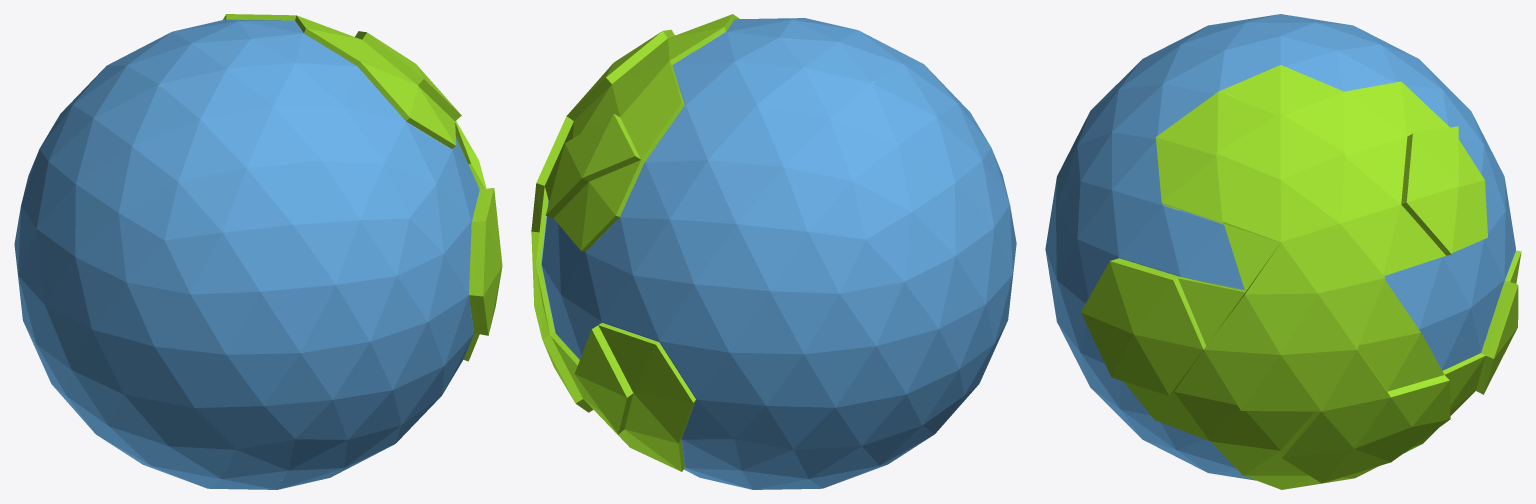
File: Pangea4.dae
The picture shows the model from 3 angles, left to right: view 1: azimuth 30°, elevation 25°; view 2: azimuth 150°, elevation 25°; view 3: azimuth 270°, elevation 25°; orthographic projection.
Parts seen in each view (by area): view 1: Icosphere-001; view 2: Icosphere-001; view 3: Icosphere-001.
Part boxes in pixels (box(x1,y1,x2,y2)): Icosphere-001: box(14, 14, 502, 489); Icosphere-001: box(531, 14, 1016, 489); Icosphere-001: box(1045, 14, 1521, 489).
Size of the model in its own units: 2.13 by 2.07 by 2.09.
Materials: 1 (1 with a texture image).
